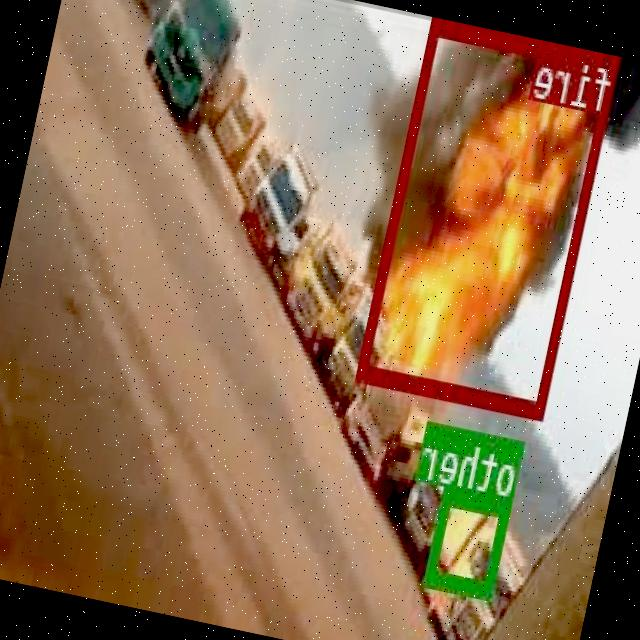fire: (358, 17, 622, 415)
